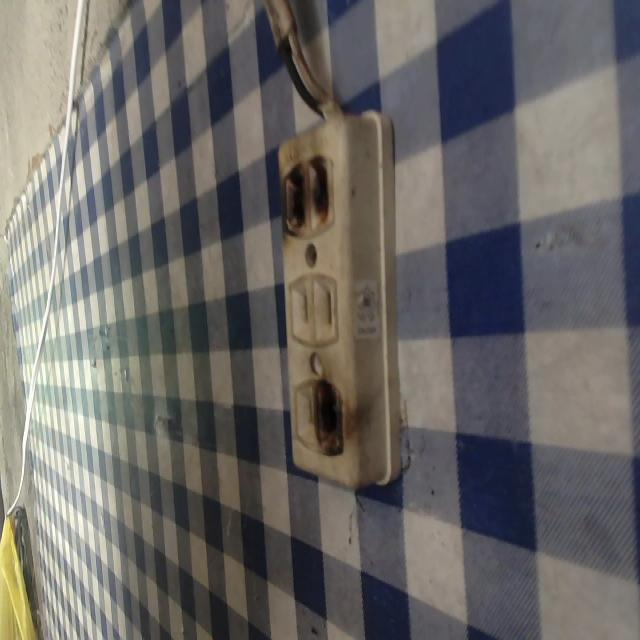-: (268, 154, 353, 245), (305, 373, 356, 458)
